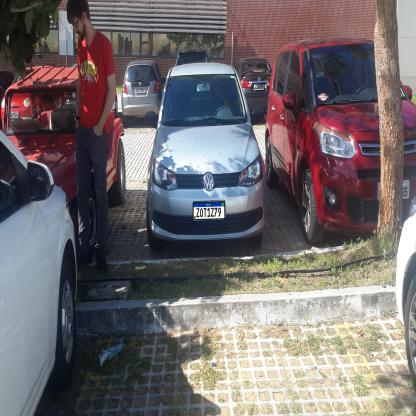PlacaM: (193, 201, 225, 220), (254, 83, 267, 89)
